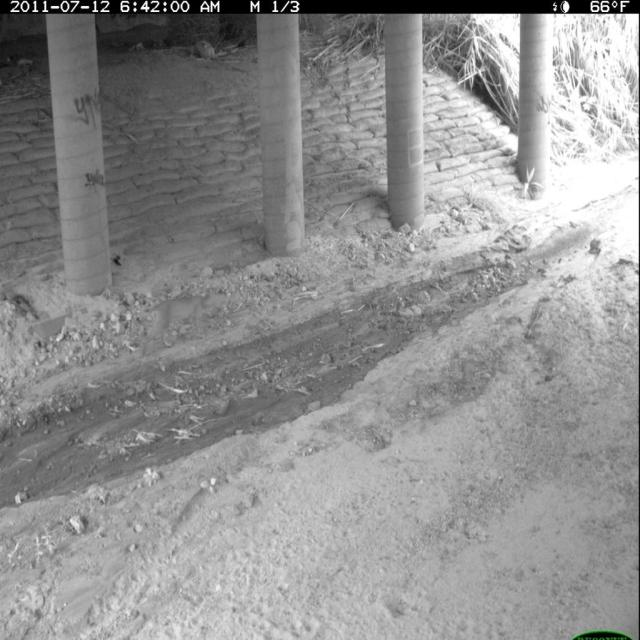bobcat: (137, 287, 221, 364)
